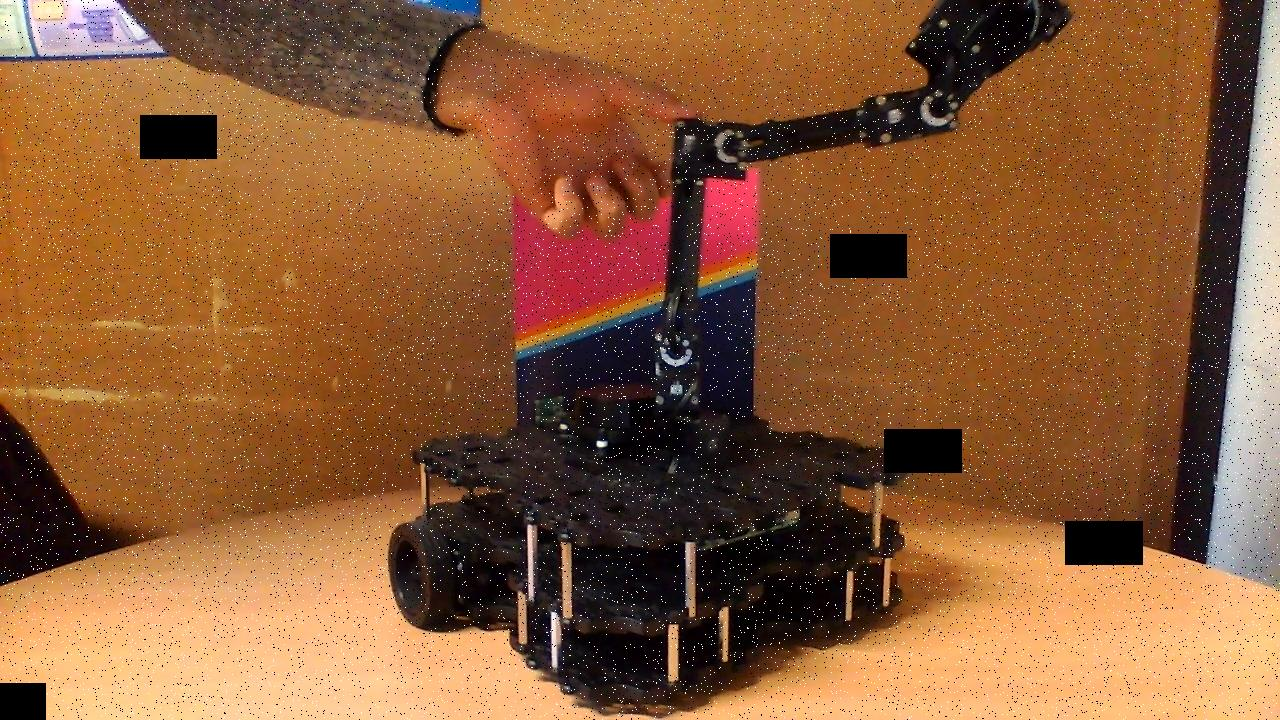Arm: (651, 114, 748, 373)
Hand: (903, 0, 1075, 148)
Wrist: (711, 86, 960, 182)
base: (386, 380, 909, 706)
